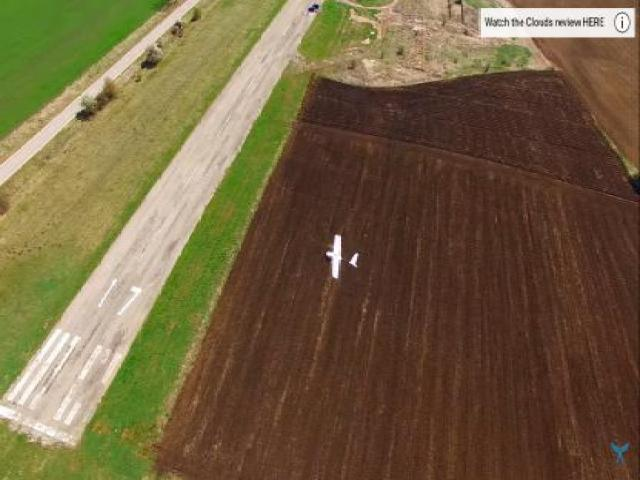uav: (320, 228, 366, 284)
